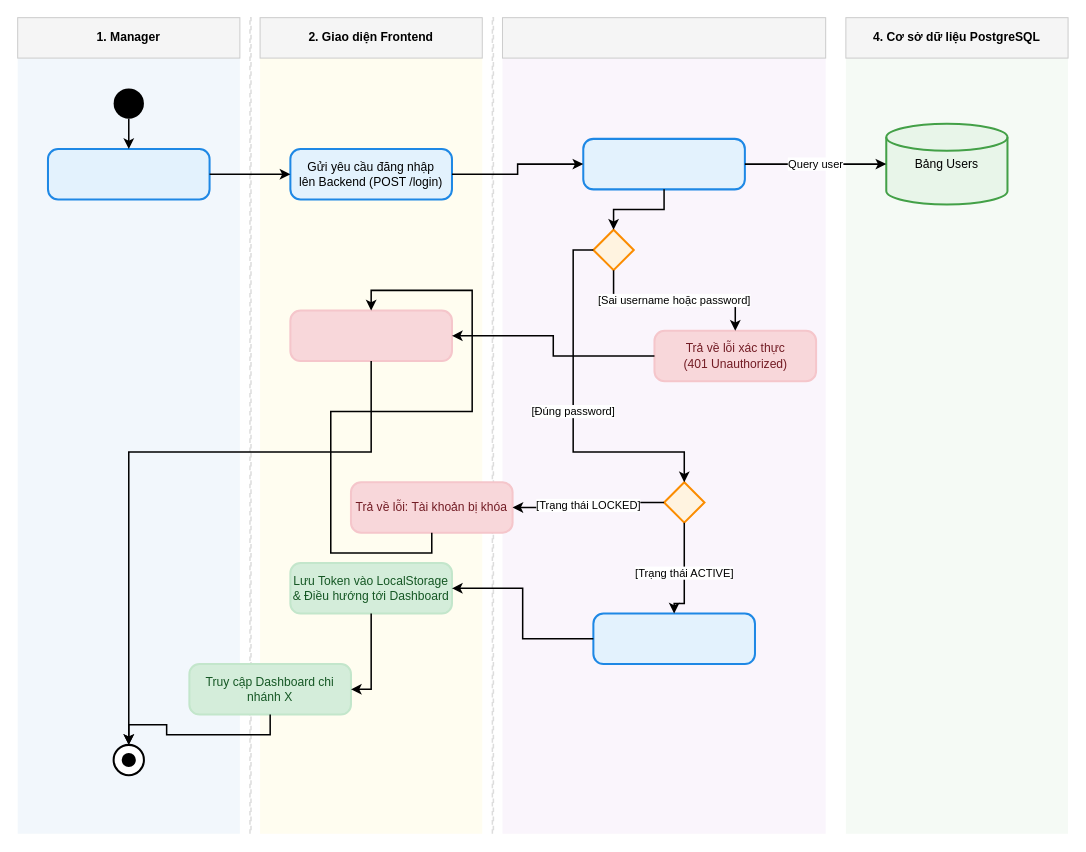
Some shapes in this 1086 by 852 pixel diagram are drawn without their labels. The centre of each missing label's shape, as x and y in pixels:
"1. Tìm tài khoản theo username 2. So khớp BCrypt password" belongs at (663,163).
"3. Hệ thống Backend" belongs at (663,37).
"Cấp JWT Token (Role = MANAGER, branch_id = X)" belongs at (673,638).
"Hiển thị thông báo lỗi đăng nhập" belongs at (370,335).
"Nhập username và password" belongs at (128,173).
